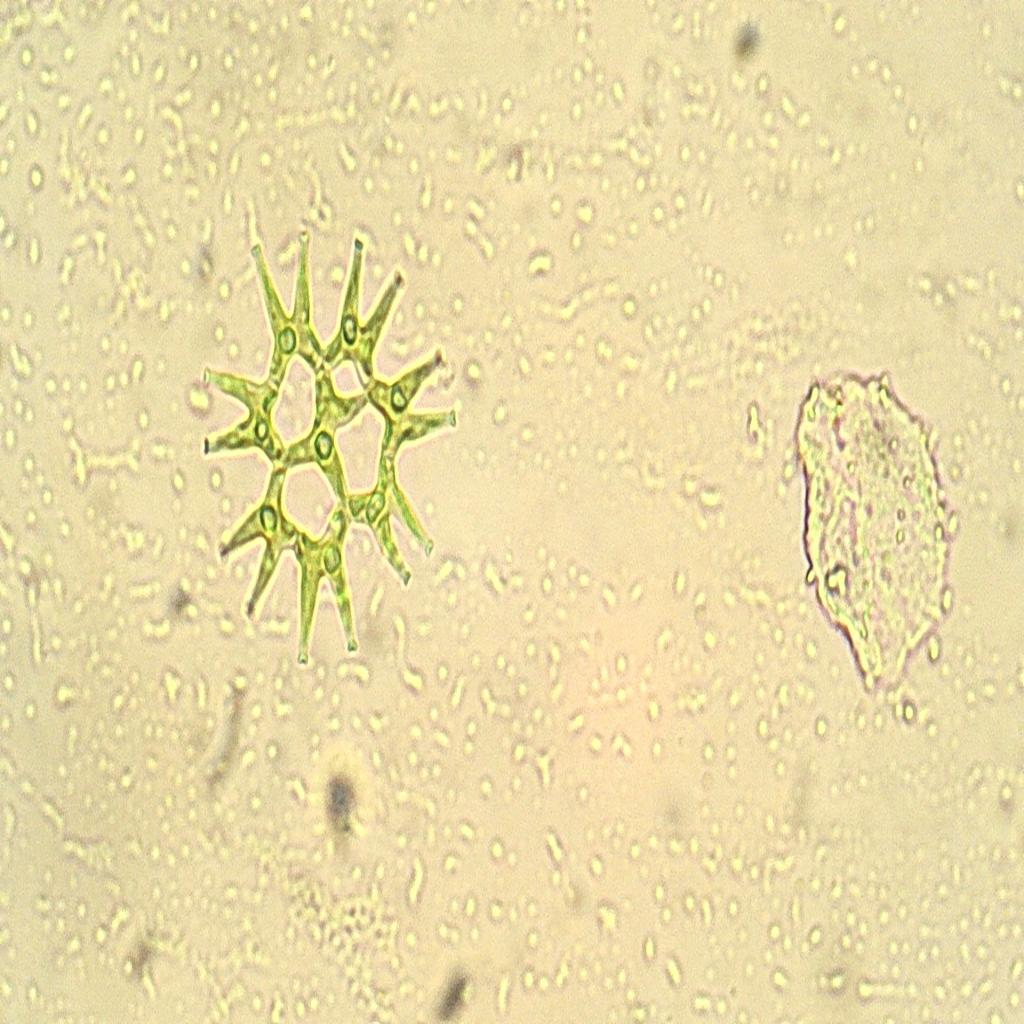Pediastrum_CTH: (185, 193, 473, 676)
